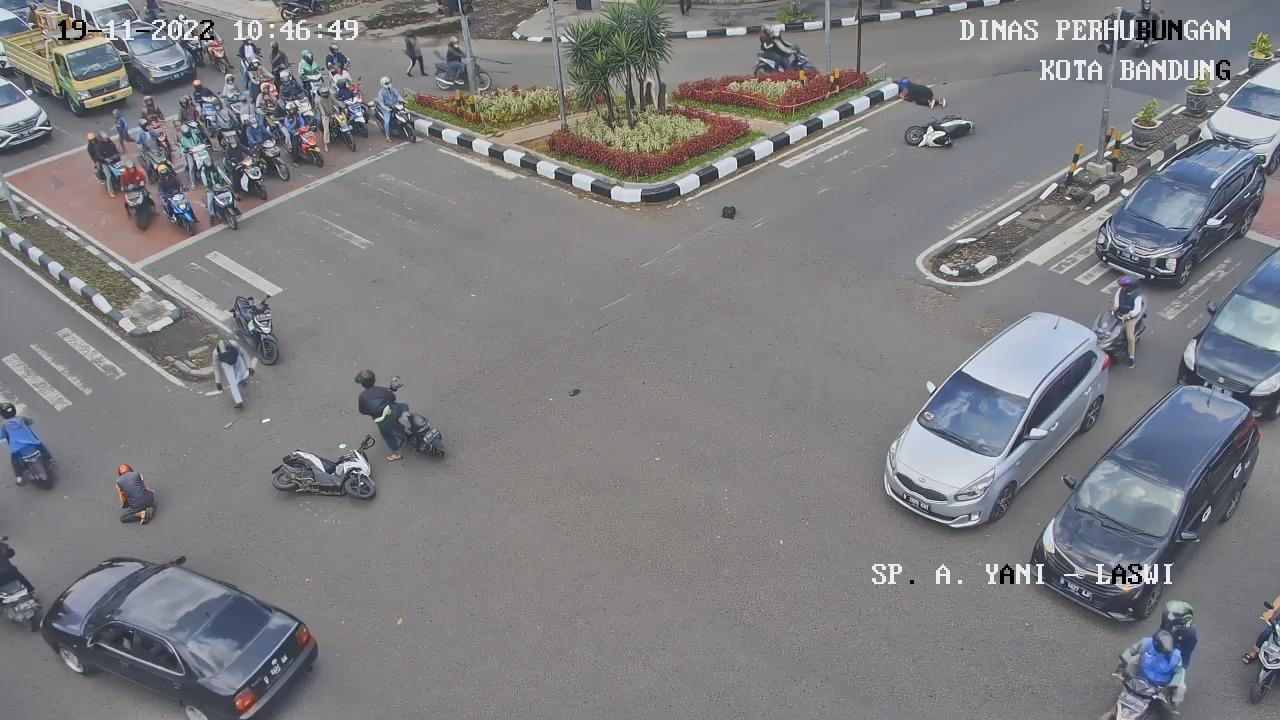accident: (105, 449, 168, 537), (898, 76, 949, 110)
